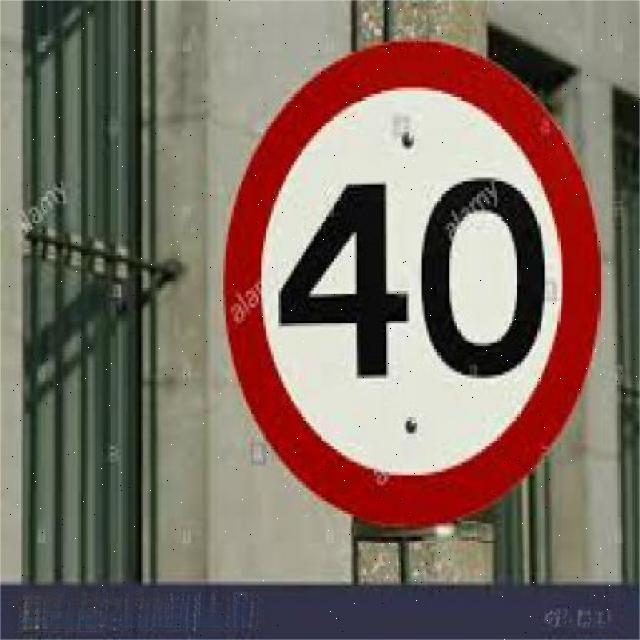speed limit 40: (221, 38, 605, 526)
